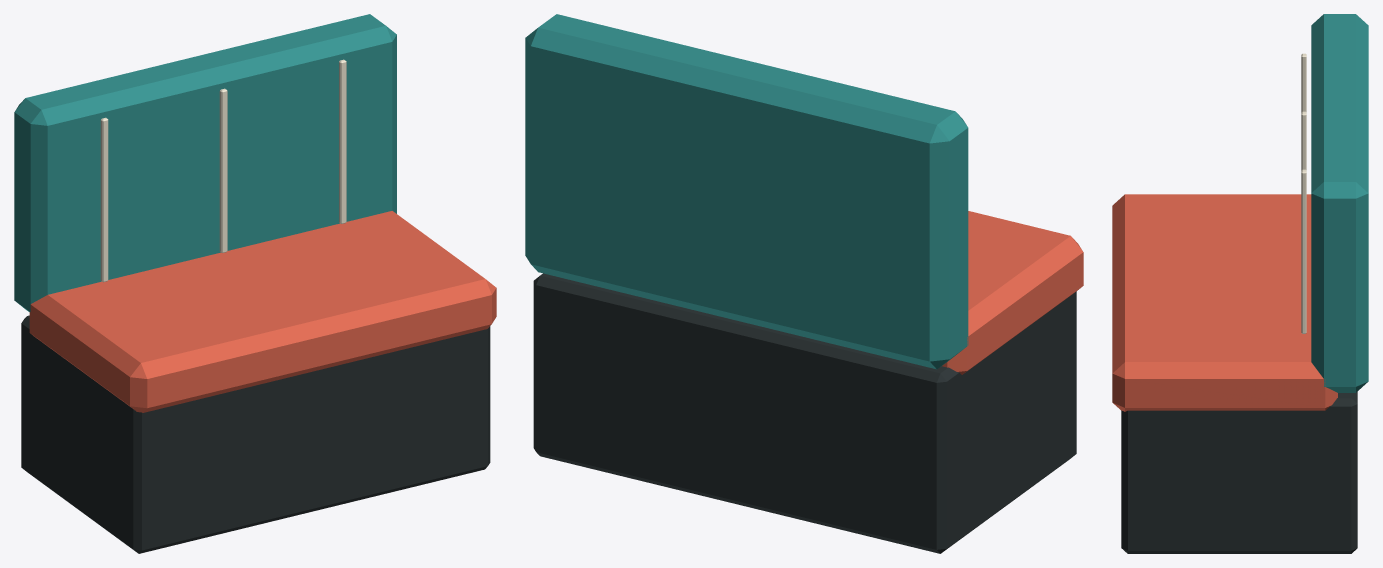
The model's file is Booth_Seat_A.glb.
3 views of the same model, side by side, from view 1: azimuth 30°, elevation 25°; view 2: azimuth 150°, elevation 25°; view 3: azimuth 270°, elevation 25° (orthographic). The views are drawn at different scales.
Parts seen in each view (by area): view 1: Booth_Seat_A; view 2: Booth_Seat_A; view 3: Booth_Seat_A.
Part boxes in pixels (left/top/right/bottom): Booth_Seat_A: left=14, top=14, right=496, bottom=553; Booth_Seat_A: left=525, top=14, right=1083, bottom=553; Booth_Seat_A: left=1112, top=14, right=1368, bottom=553.
Size of the model in its own units: 1.18 by 1.14 by 0.715.
